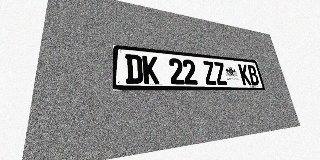2: (168, 58, 185, 84), (182, 59, 198, 85)
B: (247, 65, 260, 85)
D: (125, 54, 143, 84)
K: (142, 55, 159, 84), (238, 64, 252, 85)
Z: (202, 61, 217, 85), (213, 62, 228, 85)
